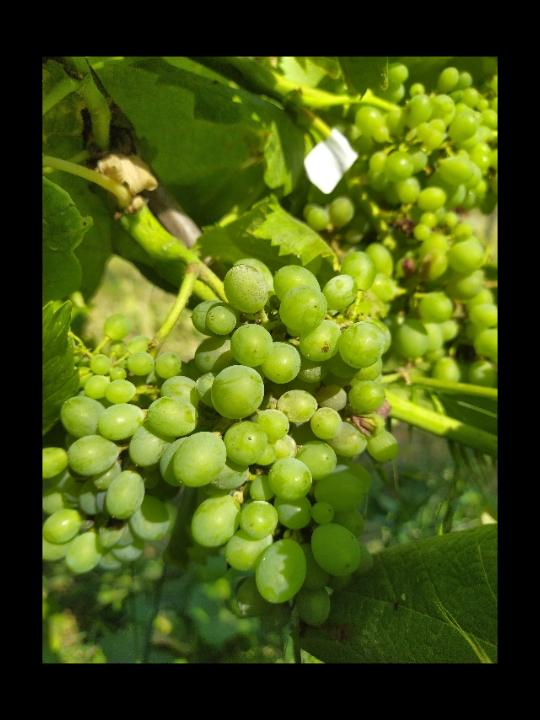grape: (47, 250, 403, 634)
